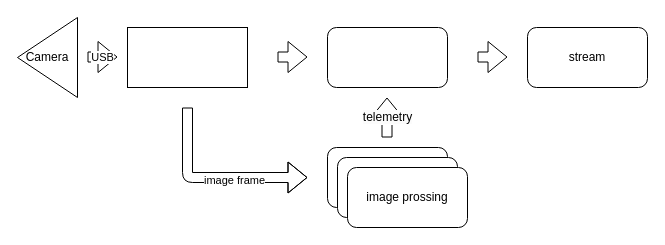
Image size: 665x245. Some labels were removed from this diagram. The shapes that lost their labels are listed below. From the top down, each one's centre as x and y in pixels, then its label:
At point 187,57: "capture".
At point 387,57: "OSD".
